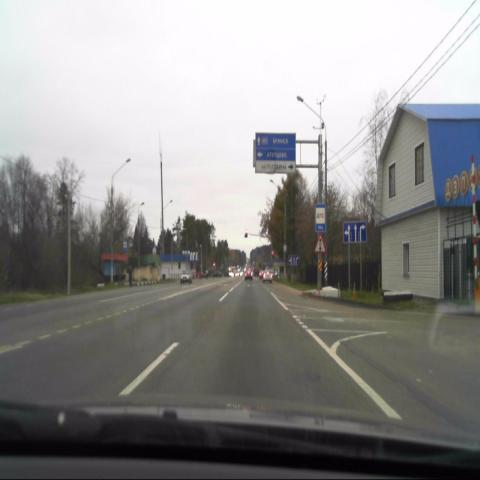7_12: (315, 203, 325, 232)
